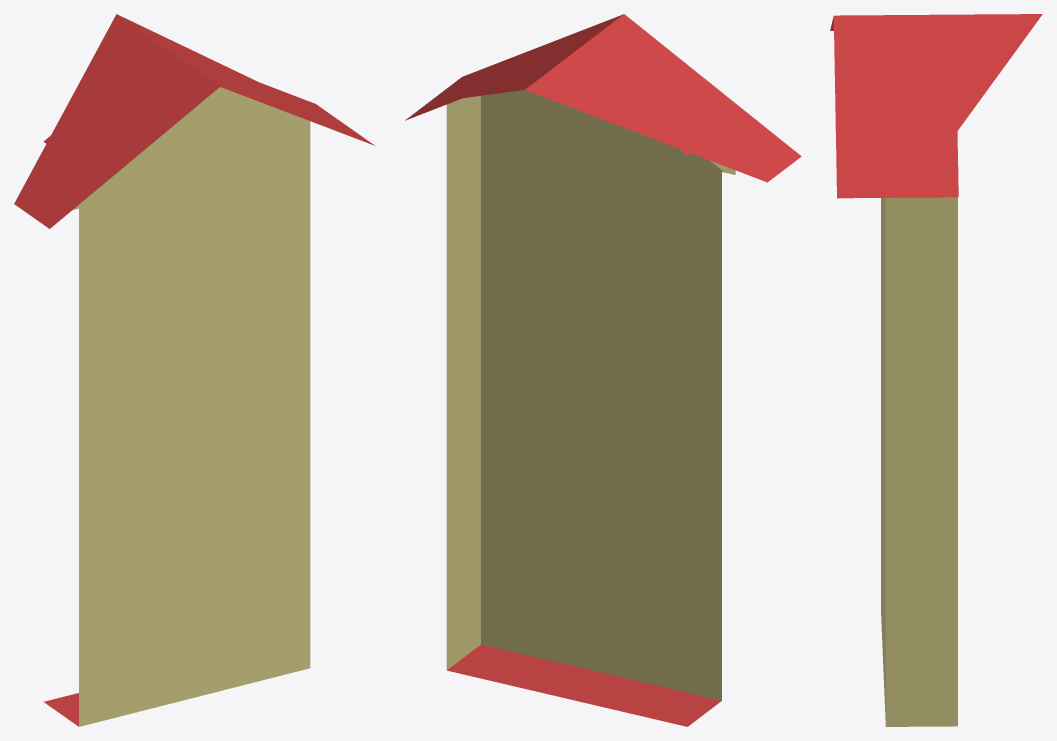
3 views of the same model, side by side, from view 1: azimuth 30°, elevation 25°; view 2: azimuth 150°, elevation 25°; view 3: azimuth 270°, elevation 25° (orthographic). The views are drawn at different scales.
Size of the model in its own units: 6 by 3.22 by 10.89.
